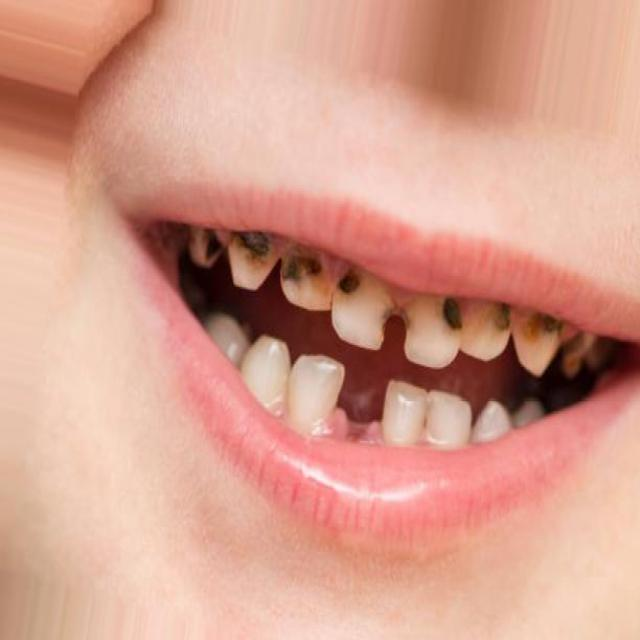caries: (332, 259, 388, 347), (224, 220, 280, 292), (421, 289, 468, 369), (278, 244, 330, 311), (515, 305, 569, 369), (468, 293, 513, 357), (190, 214, 226, 264), (378, 300, 416, 347)
